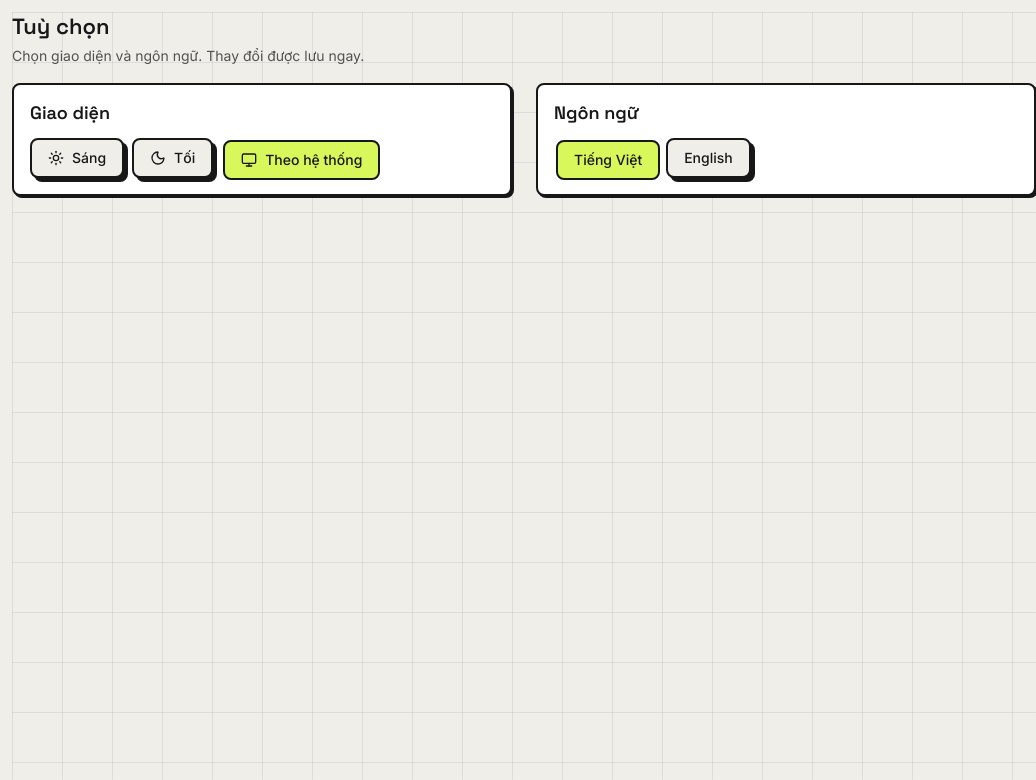
LocaleSelector › shows the saved language and saves a new one
This screenshot has width=1036, height=780.
Click the button "English". click: (708, 158)
box: [666,138,751,178]
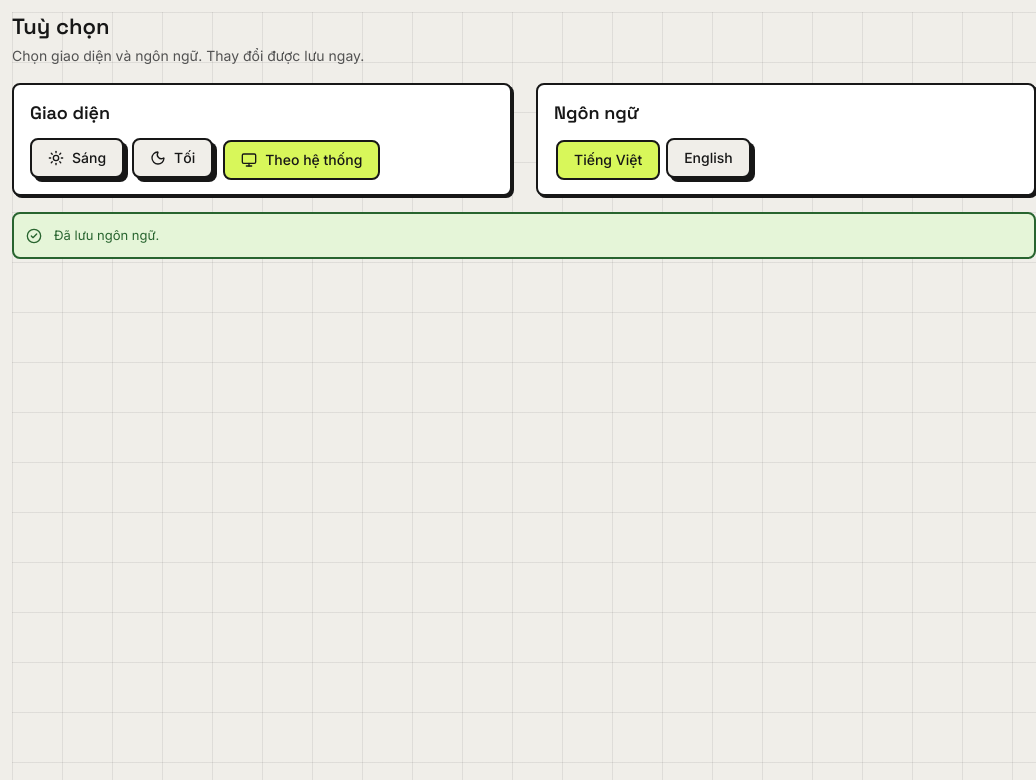
Check: the text "Đã lưu ngôn ngữ." is shown, box [54,227,159,243]
